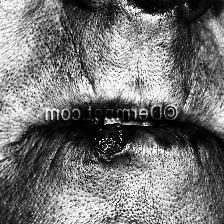Potentially Malignant Skin Tumors: (88, 122, 134, 160)
